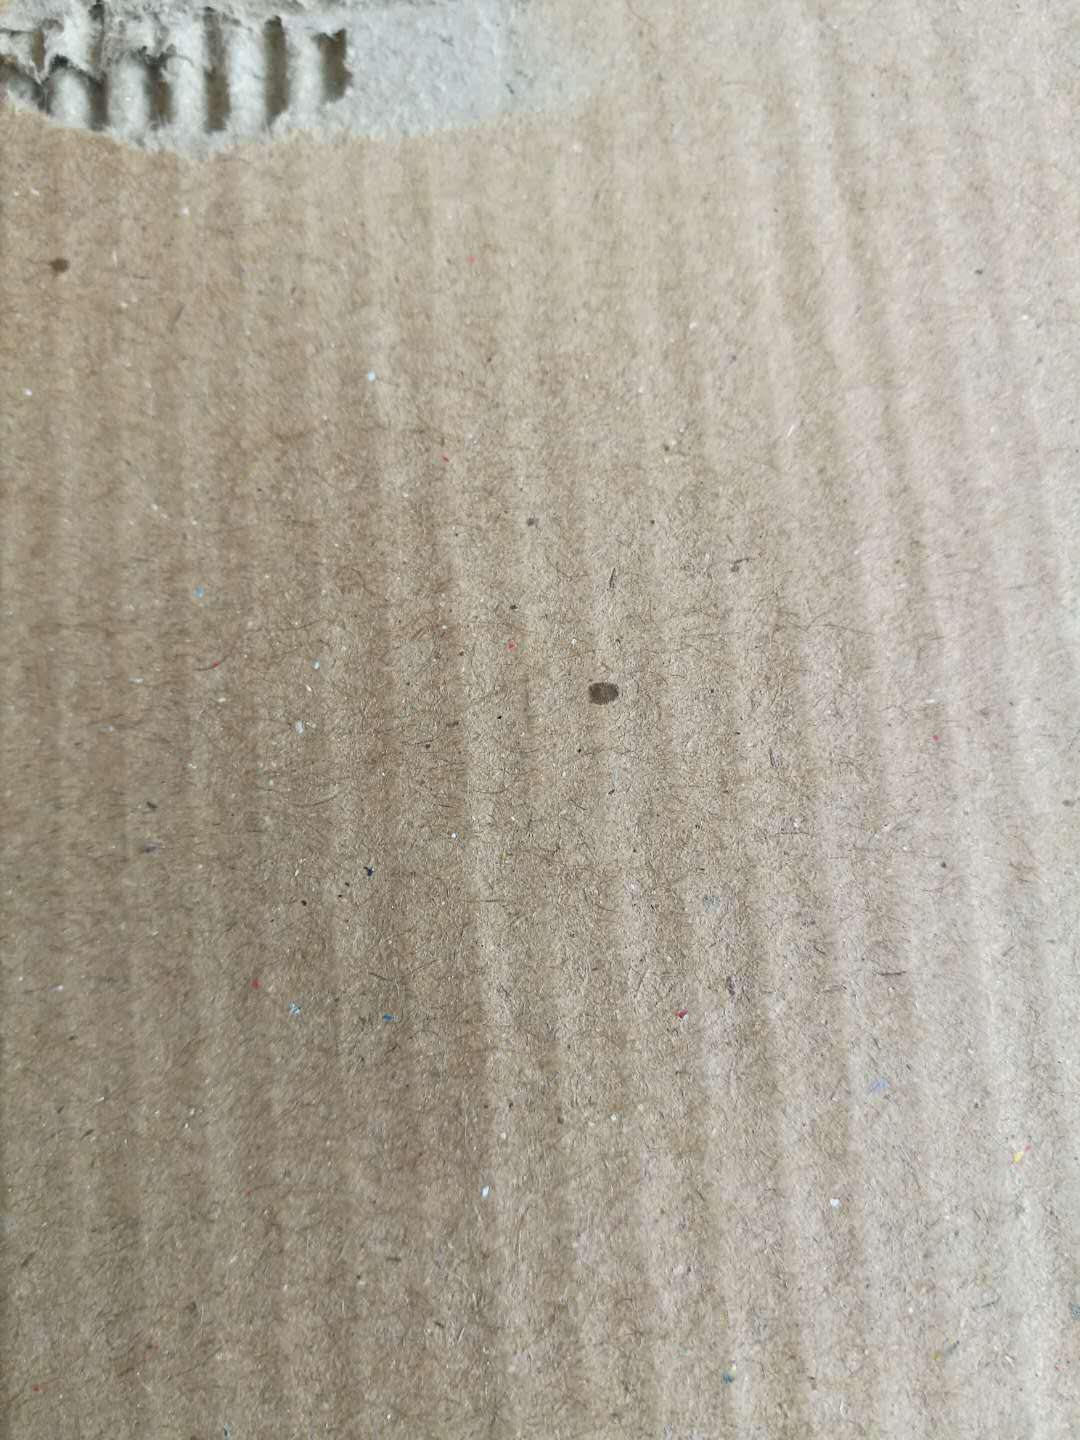defect: (3, 5, 632, 175)
